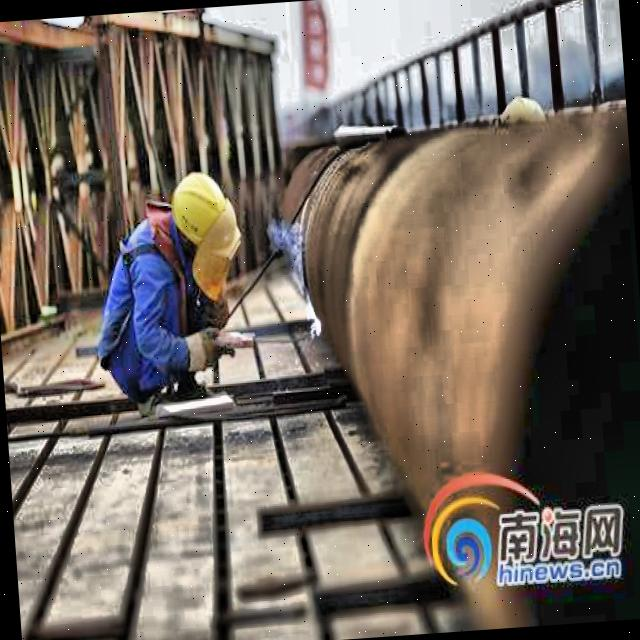helmet: (168, 166, 244, 276)
